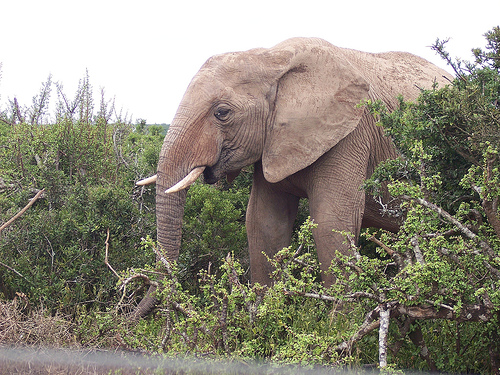elephant: (127, 36, 479, 323)
